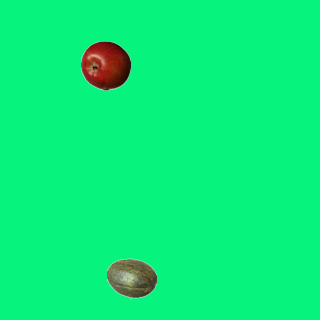Apple Braeburn: (80, 40, 130, 90)
Melon Piel de Sapo: (106, 253, 156, 303)
